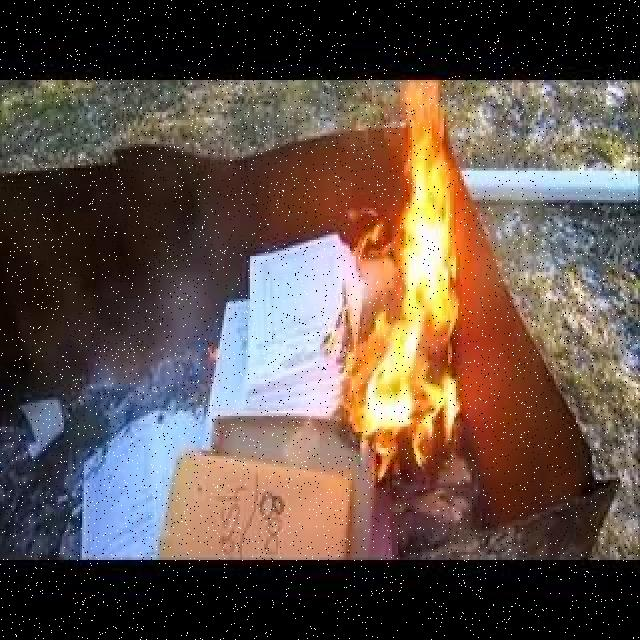fire: (340, 83, 471, 467)
